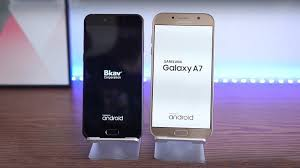samsung: (150, 8, 216, 142)
